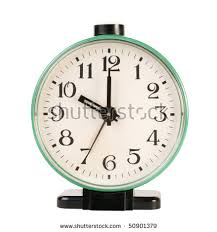alarm_clock: (27, 19, 187, 211), (38, 19, 187, 211)
